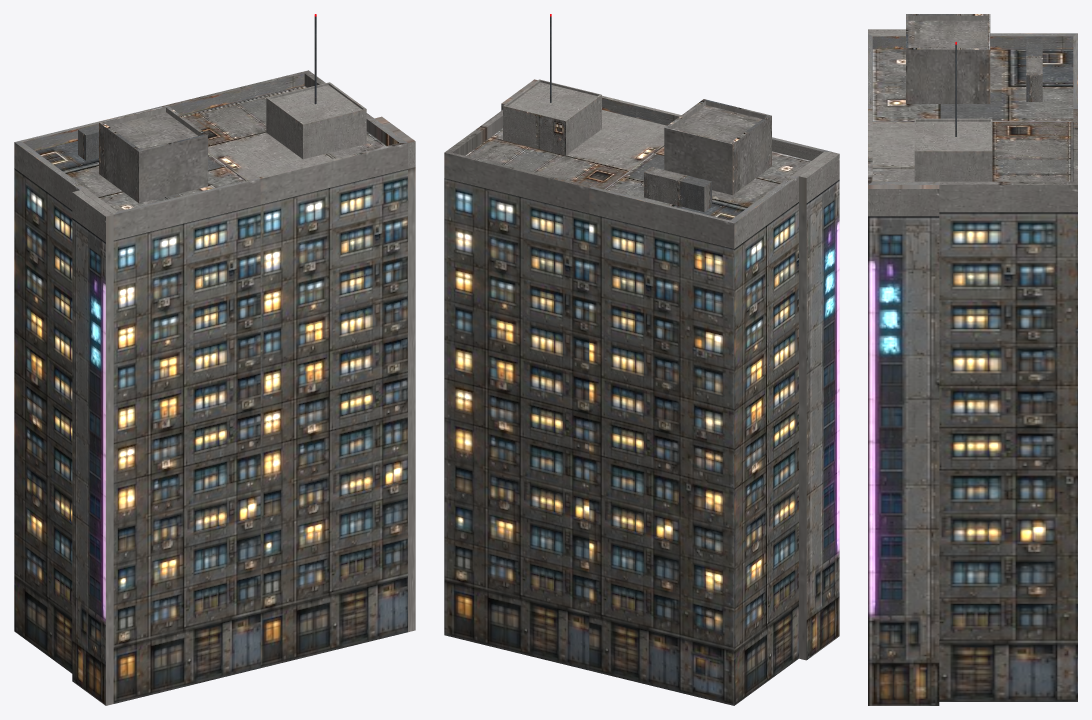
Rendered from cyberpunk-residential-building-2.glb.
The picture shows the model from 3 angles, left to right: view 1: azimuth 30°, elevation 25°; view 2: azimuth 150°, elevation 25°; view 3: azimuth 270°, elevation 25°; orthographic projection. The views are drawn at different scales.
Parts seen in each view (by area): view 1: cyberpunk-residential-building-2; view 2: cyberpunk-residential-building-2; view 3: cyberpunk-residential-building-2.
Boxes of the visible parts, x1,y1,x2,y2 form: cyberpunk-residential-building-2: (14, 14, 415, 705); cyberpunk-residential-building-2: (444, 14, 839, 705); cyberpunk-residential-building-2: (868, 14, 1077, 705).
Bounding box in the file's own units: 23.37 × 43.26 × 12.98.
Materials: 2 (1 with a texture image).
